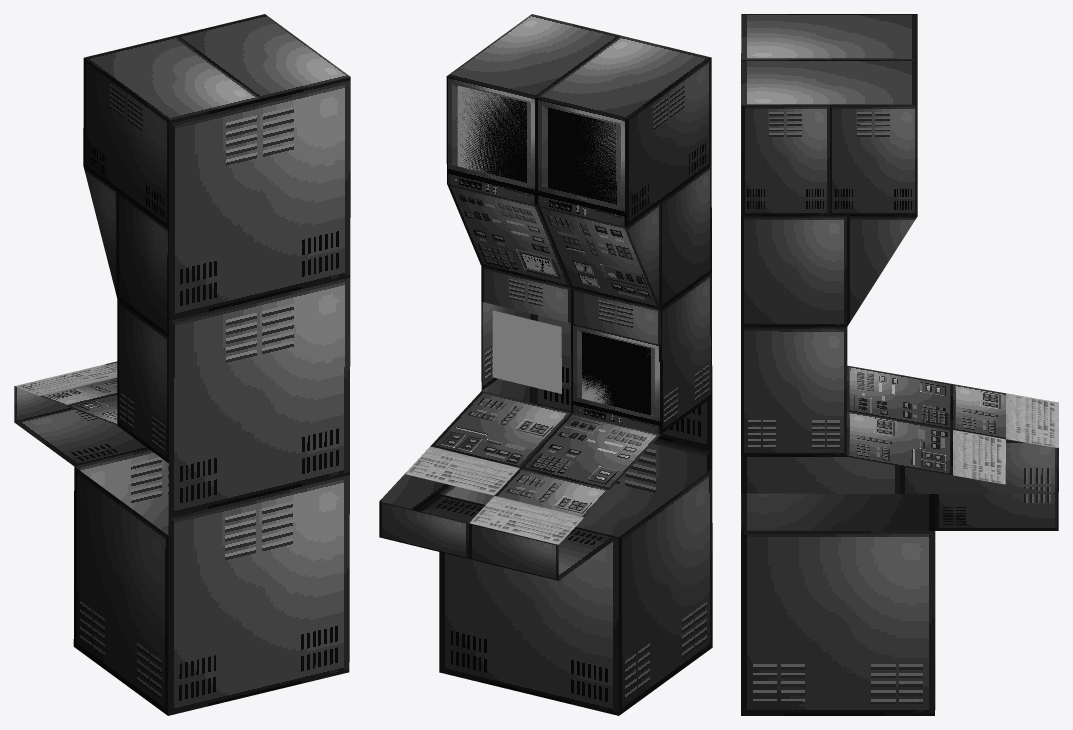
The model's file is primary_184.glb.
3 views of the same model, side by side, from view 1: azimuth 30°, elevation 25°; view 2: azimuth 150°, elevation 25°; view 3: azimuth 270°, elevation 25° (orthographic). The views are drawn at different scales.
Parts seen in each view (by area): view 1: Object; view 2: Object; view 3: Object.
Part boxes in pixels (x1,y1,x2,y2): Object: (14, 14, 350, 715); Object: (379, 14, 712, 715); Object: (741, 14, 1058, 715).
Size of the model in its own units: 0.9792 by 3.05 by 1.44.
Materials: 26 (26 with a texture image).
